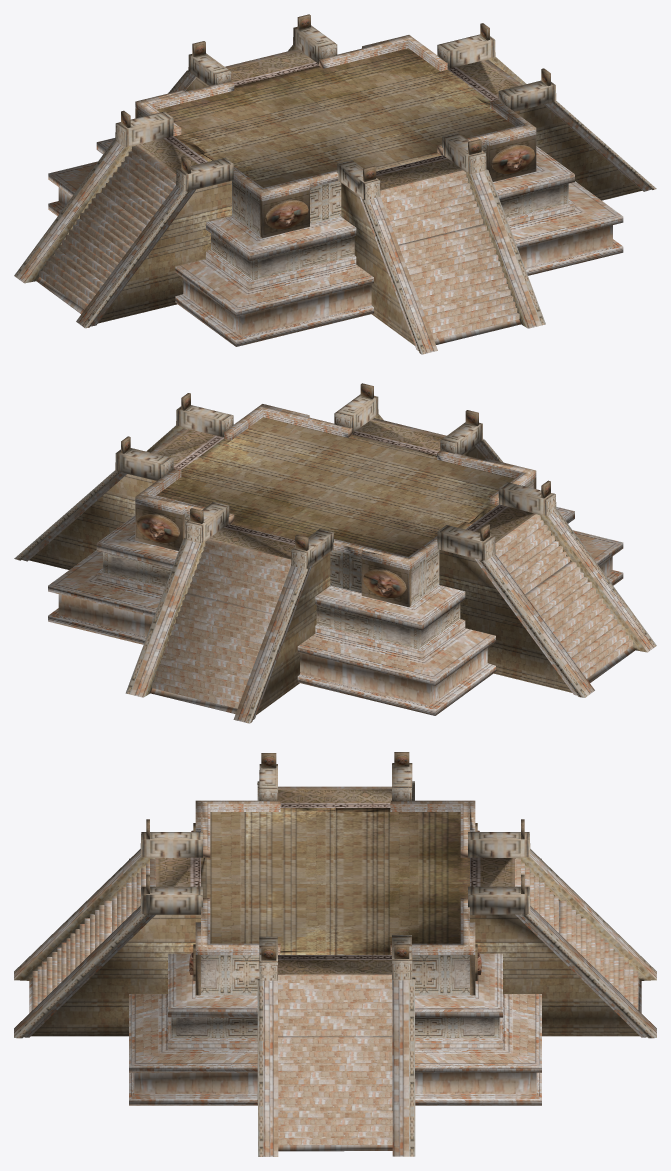
File: es_temple.obj
The picture shows the model from 3 angles, top to bottom: view 1: azimuth 30°, elevation 25°; view 2: azimuth 150°, elevation 25°; view 3: azimuth 270°, elevation 25°; orthographic projection. The views are drawn at different scales.
Parts seen in each view (by area): view 1: mayan_building_1_0_mayan_texture_six, mayan_building_1_0_mayan_texture_severn, mayan_building_1_0_mayan_texture_five; view 2: mayan_building_1_0_mayan_texture_six, mayan_building_1_0_mayan_texture_severn, mayan_building_1_0_mayan_texture_five; view 3: mayan_building_1_0_mayan_texture_six, mayan_building_1_0_mayan_texture_severn, mayan_building_1_0_mayan_texture_five.
Boxes of the visible parts, box(x1,y1,x2,y2) form: mayan_building_1_0_mayan_texture_six: box(17, 35, 651, 353); mayan_building_1_0_mayan_texture_severn: box(98, 48, 641, 345); mayan_building_1_0_mayan_texture_five: box(14, 14, 656, 354); mayan_building_1_0_mayan_texture_six: box(22, 404, 653, 722); mayan_building_1_0_mayan_texture_severn: box(29, 417, 572, 714); mayan_building_1_0_mayan_texture_five: box(14, 383, 656, 723); mayan_building_1_0_mayan_texture_six: box(14, 786, 656, 1156); mayan_building_1_0_mayan_texture_severn: box(31, 808, 639, 1036); mayan_building_1_0_mayan_texture_five: box(14, 752, 656, 1156).
Bounding box in the file's own units: 15.8 × 3.74 × 14.02.
